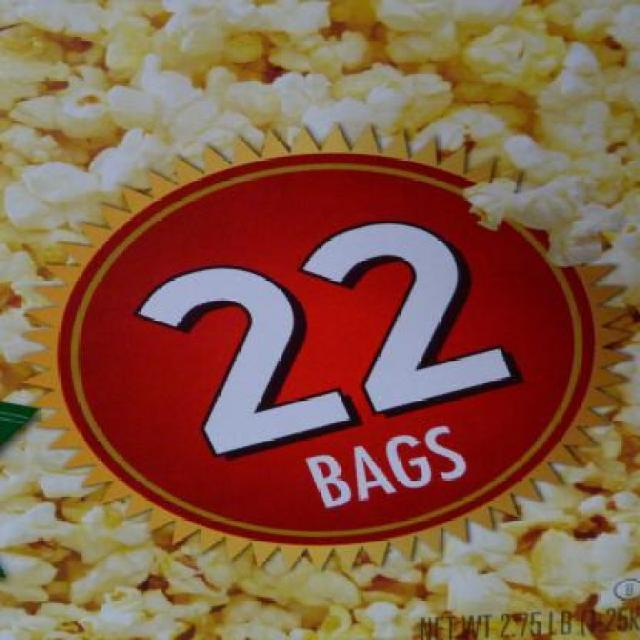Popcorn: (0, 0, 638, 638)
